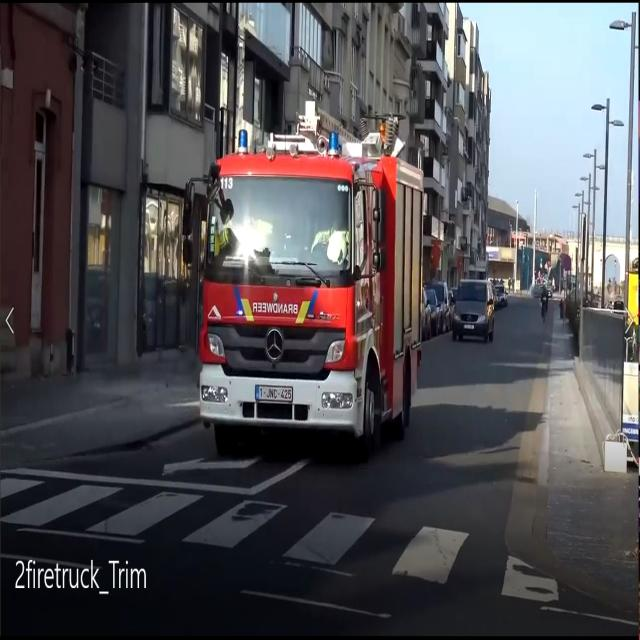emergency: (184, 86, 432, 468)
